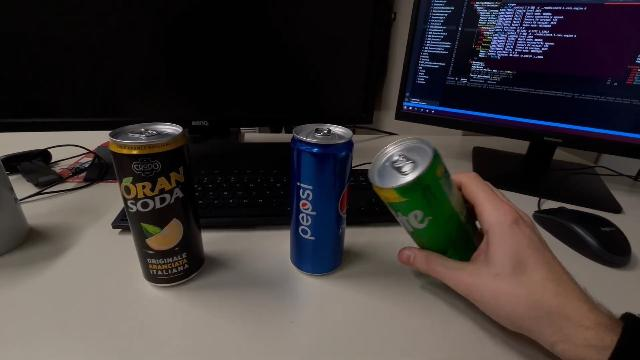OranSoda: (106, 122, 208, 288)
Pepsi: (289, 121, 356, 276)
Sprite: (368, 134, 484, 264)
